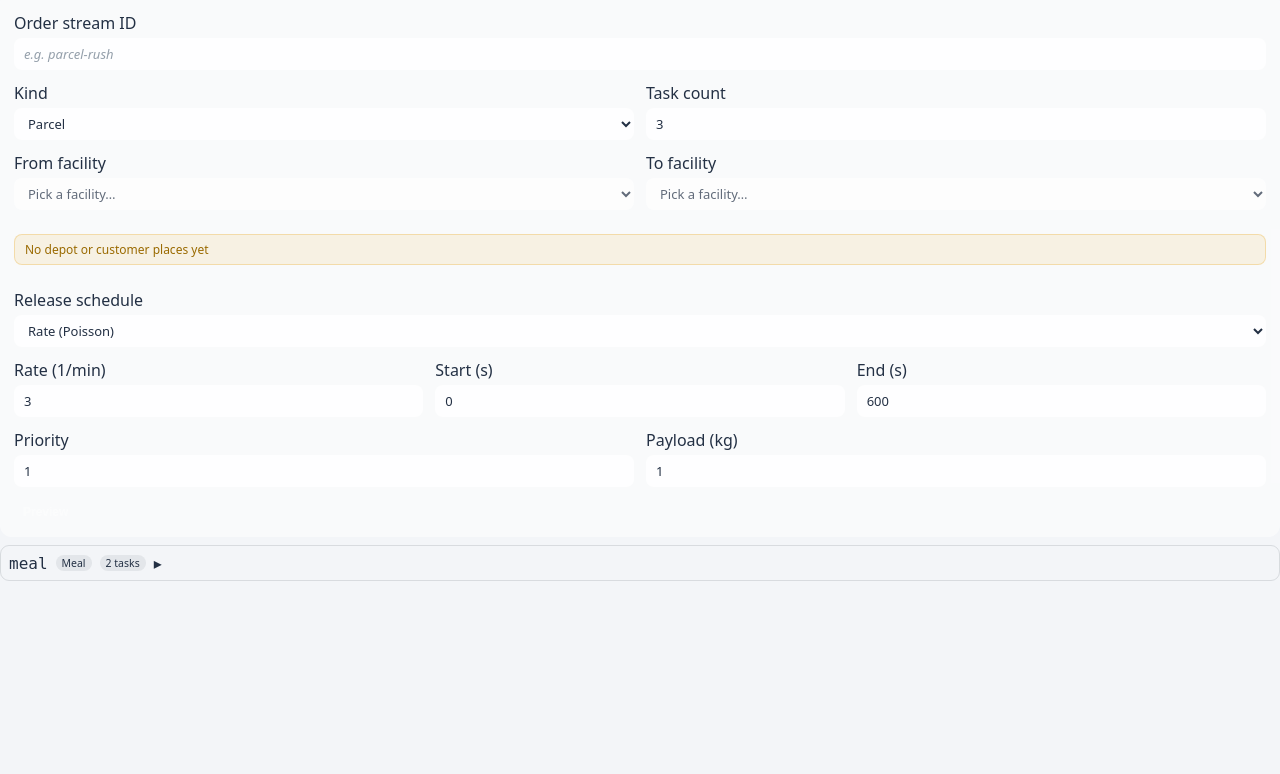
Test: disables the order-removal entry point while another mutation is pending
Click the button "meal Meal 2 tasks ▸": (28,563) [9, 552, 1271, 574]
(page scrolled)
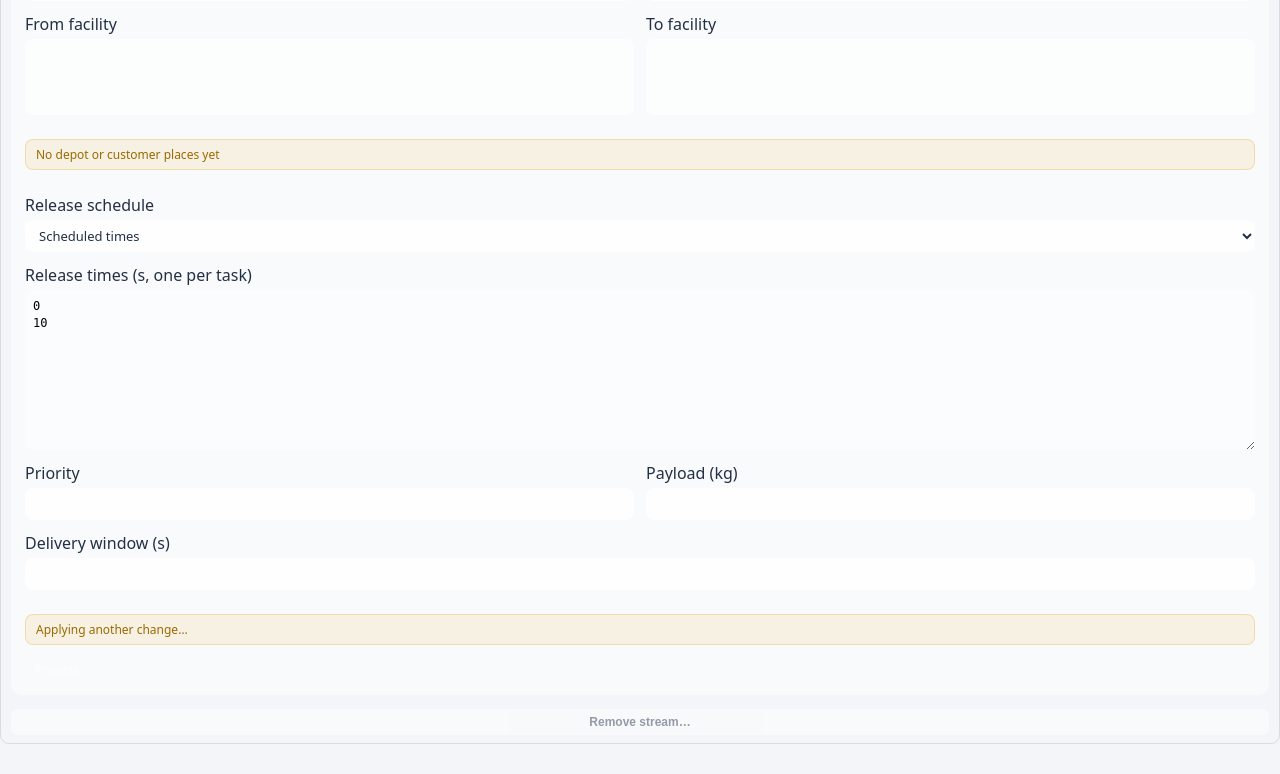
Expected: the button "Remove stream…" is disabled
Click the button "Remove stream…": (640,722) [11, 709, 1269, 735]
(page scrolled)
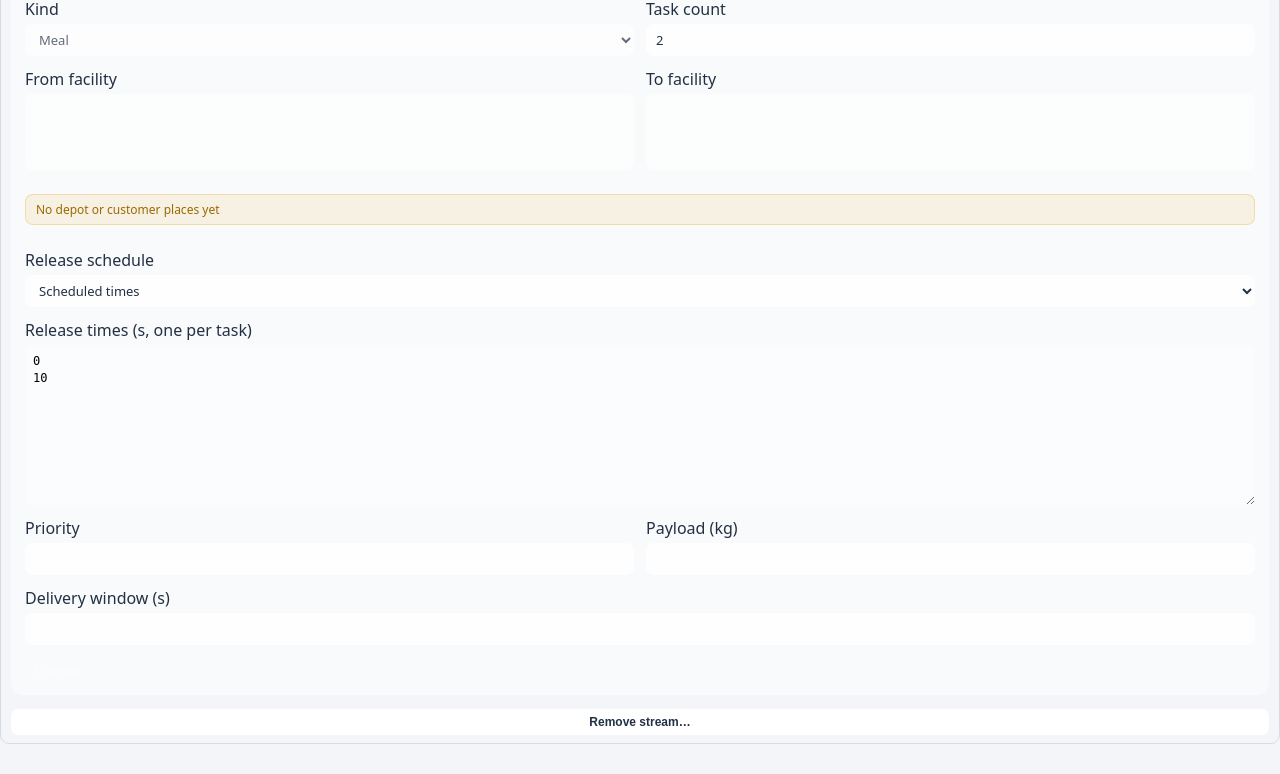
Expected: the button "Remove stream…" is enabled, [11, 709, 1269, 735]
